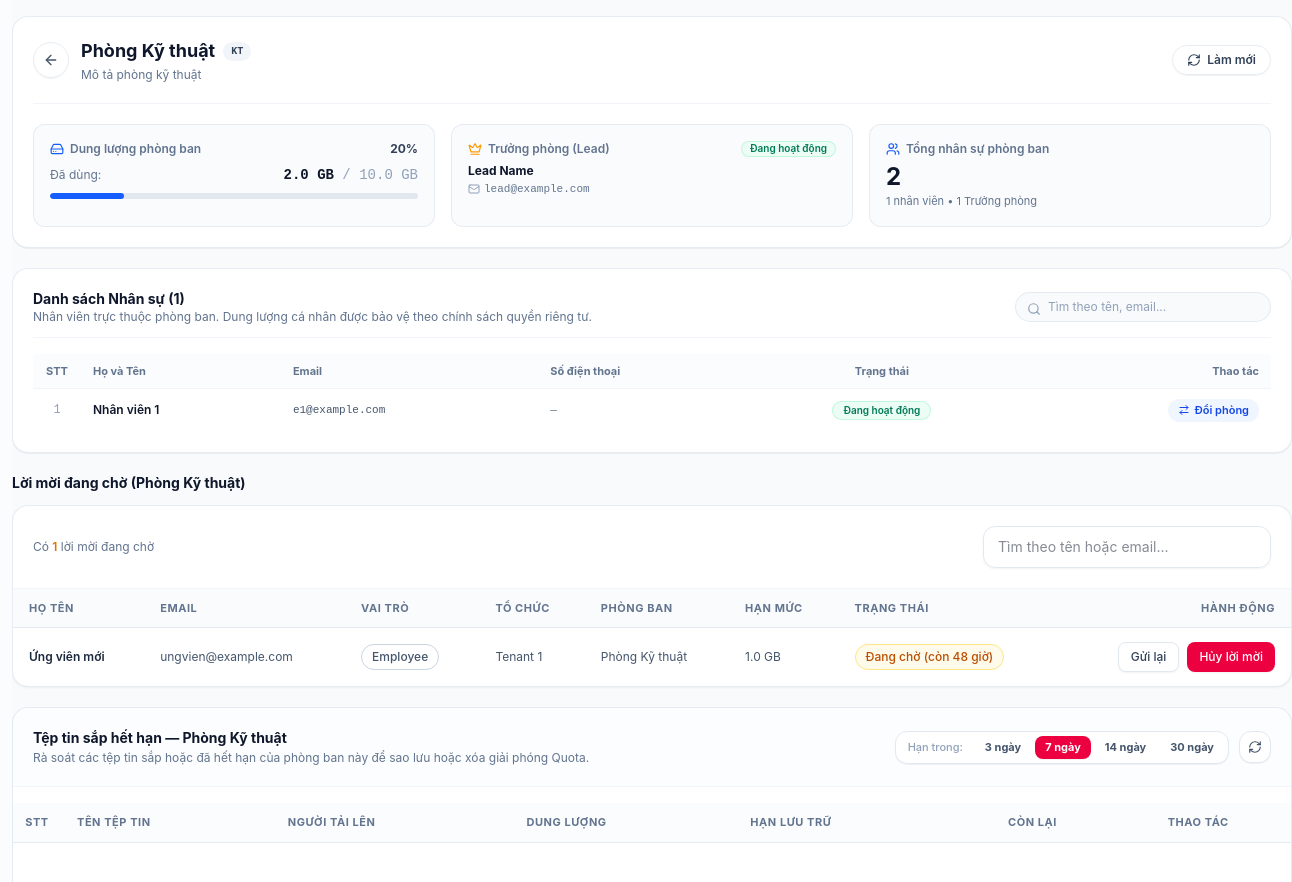
Test case: TenantDepartmentDetailView with PendingInvitationsTable › allows resending an invitation and displays the success toast
This screenshot has width=1292, height=882.
Expected: the text "ungvien@example.com" is shown, [144, 628, 345, 686]
Click the button "Gửi lại".
click(1149, 658)  # box [1118, 642, 1179, 672]
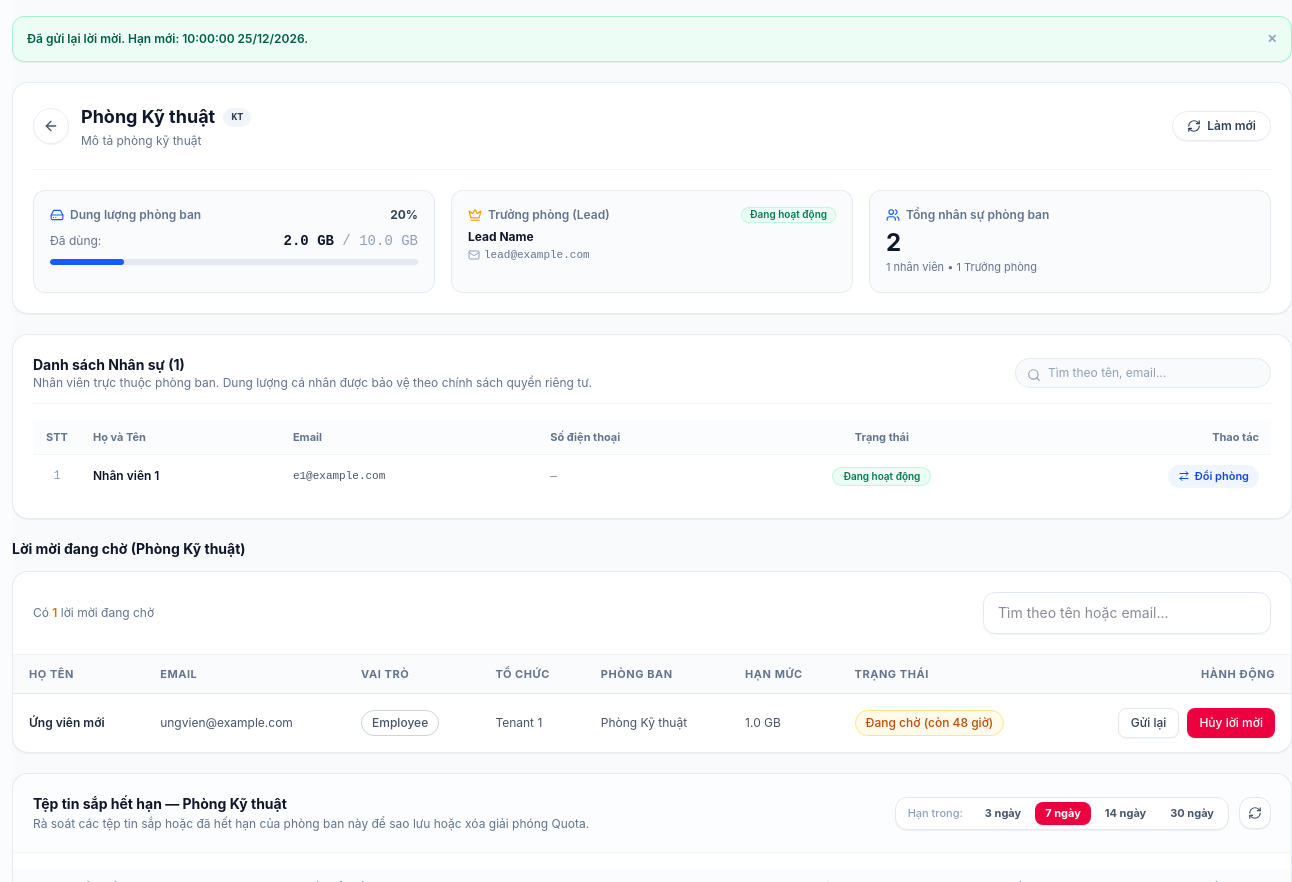
Result: the text "Đã gửi lại lời mời. Hạn mới: 10:00:00 25/12/2026." is shown at [27, 31, 308, 47]
